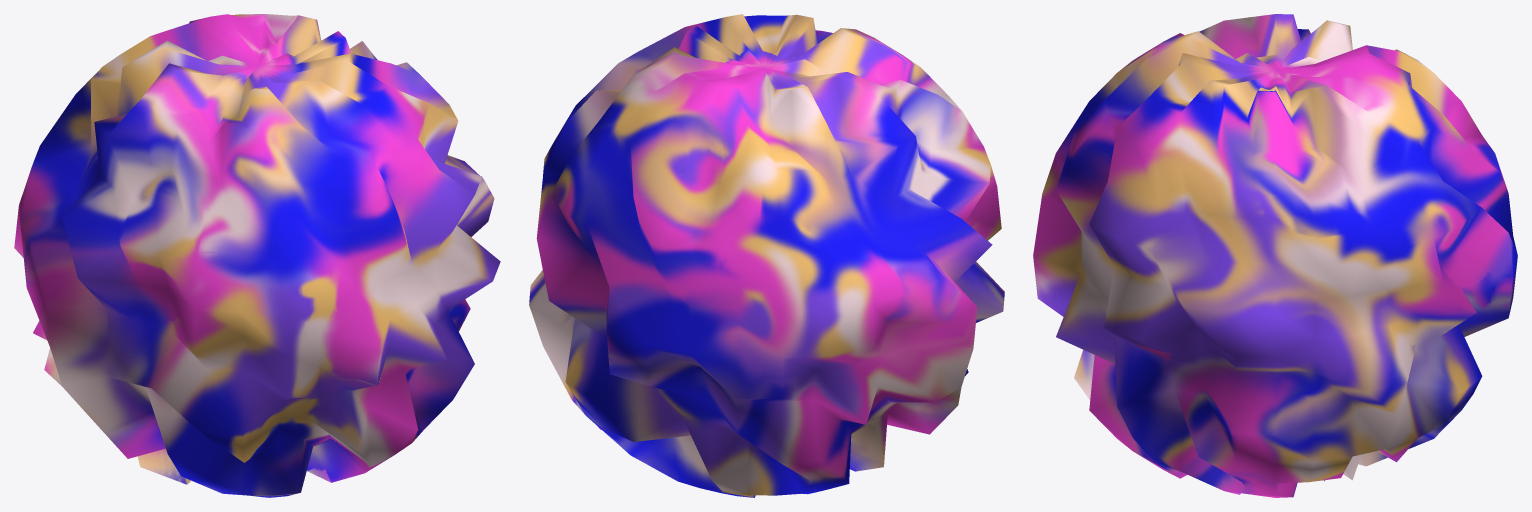
Rendered from blob6.gltf.
The picture shows the model from 3 angles, left to right: view 1: azimuth 30°, elevation 25°; view 2: azimuth 150°, elevation 25°; view 3: azimuth 270°, elevation 25°; orthographic projection.
Parts seen in each view (by area): view 1: Sphere; view 2: Sphere; view 3: Sphere.
Boxes of the visible parts, x1=… form: Sphere: x1=14, y1=14, x2=500, y2=497; Sphere: x1=529, y1=14, x2=1004, y2=497; Sphere: x1=1033, y1=14, x2=1517, y2=497.
Size of the model in its own units: 2.43 by 2.24 by 2.43.
1 material, 1 textured.
